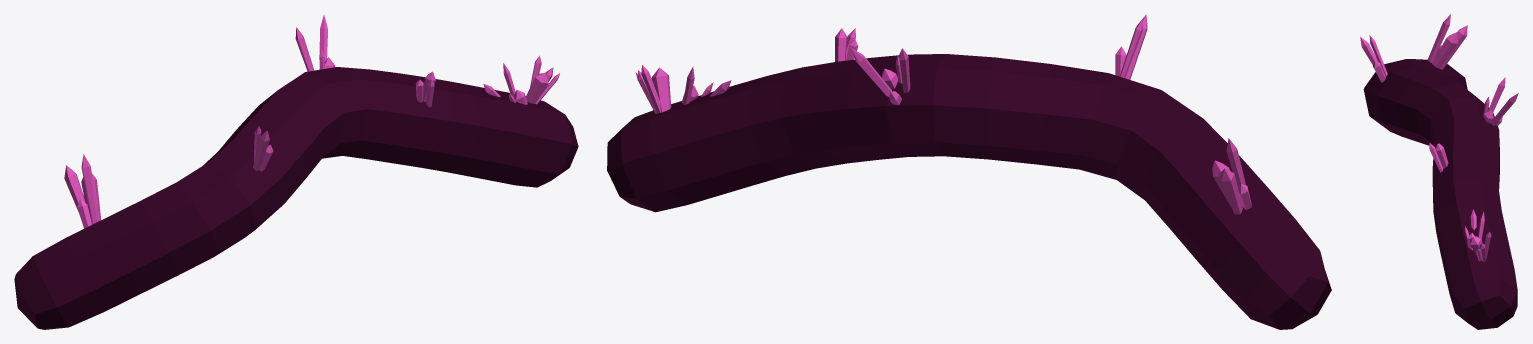
File: roots_6.fbx
The picture shows the model from 3 angles, left to right: view 1: azimuth 30°, elevation 25°; view 2: azimuth 150°, elevation 25°; view 3: azimuth 270°, elevation 25°; orthographic projection. The views are drawn at different scales.
Visible parts, largest first — view 1: roots_6; view 2: roots_6; view 3: roots_6.
Part boxes in pixels (box(x1,y1,x2,y2)): roots_6: box(14, 14, 578, 329); roots_6: box(607, 14, 1331, 329); roots_6: box(1360, 14, 1518, 329).
Bounding box in the file's own units: 349 × 115 × 103.
